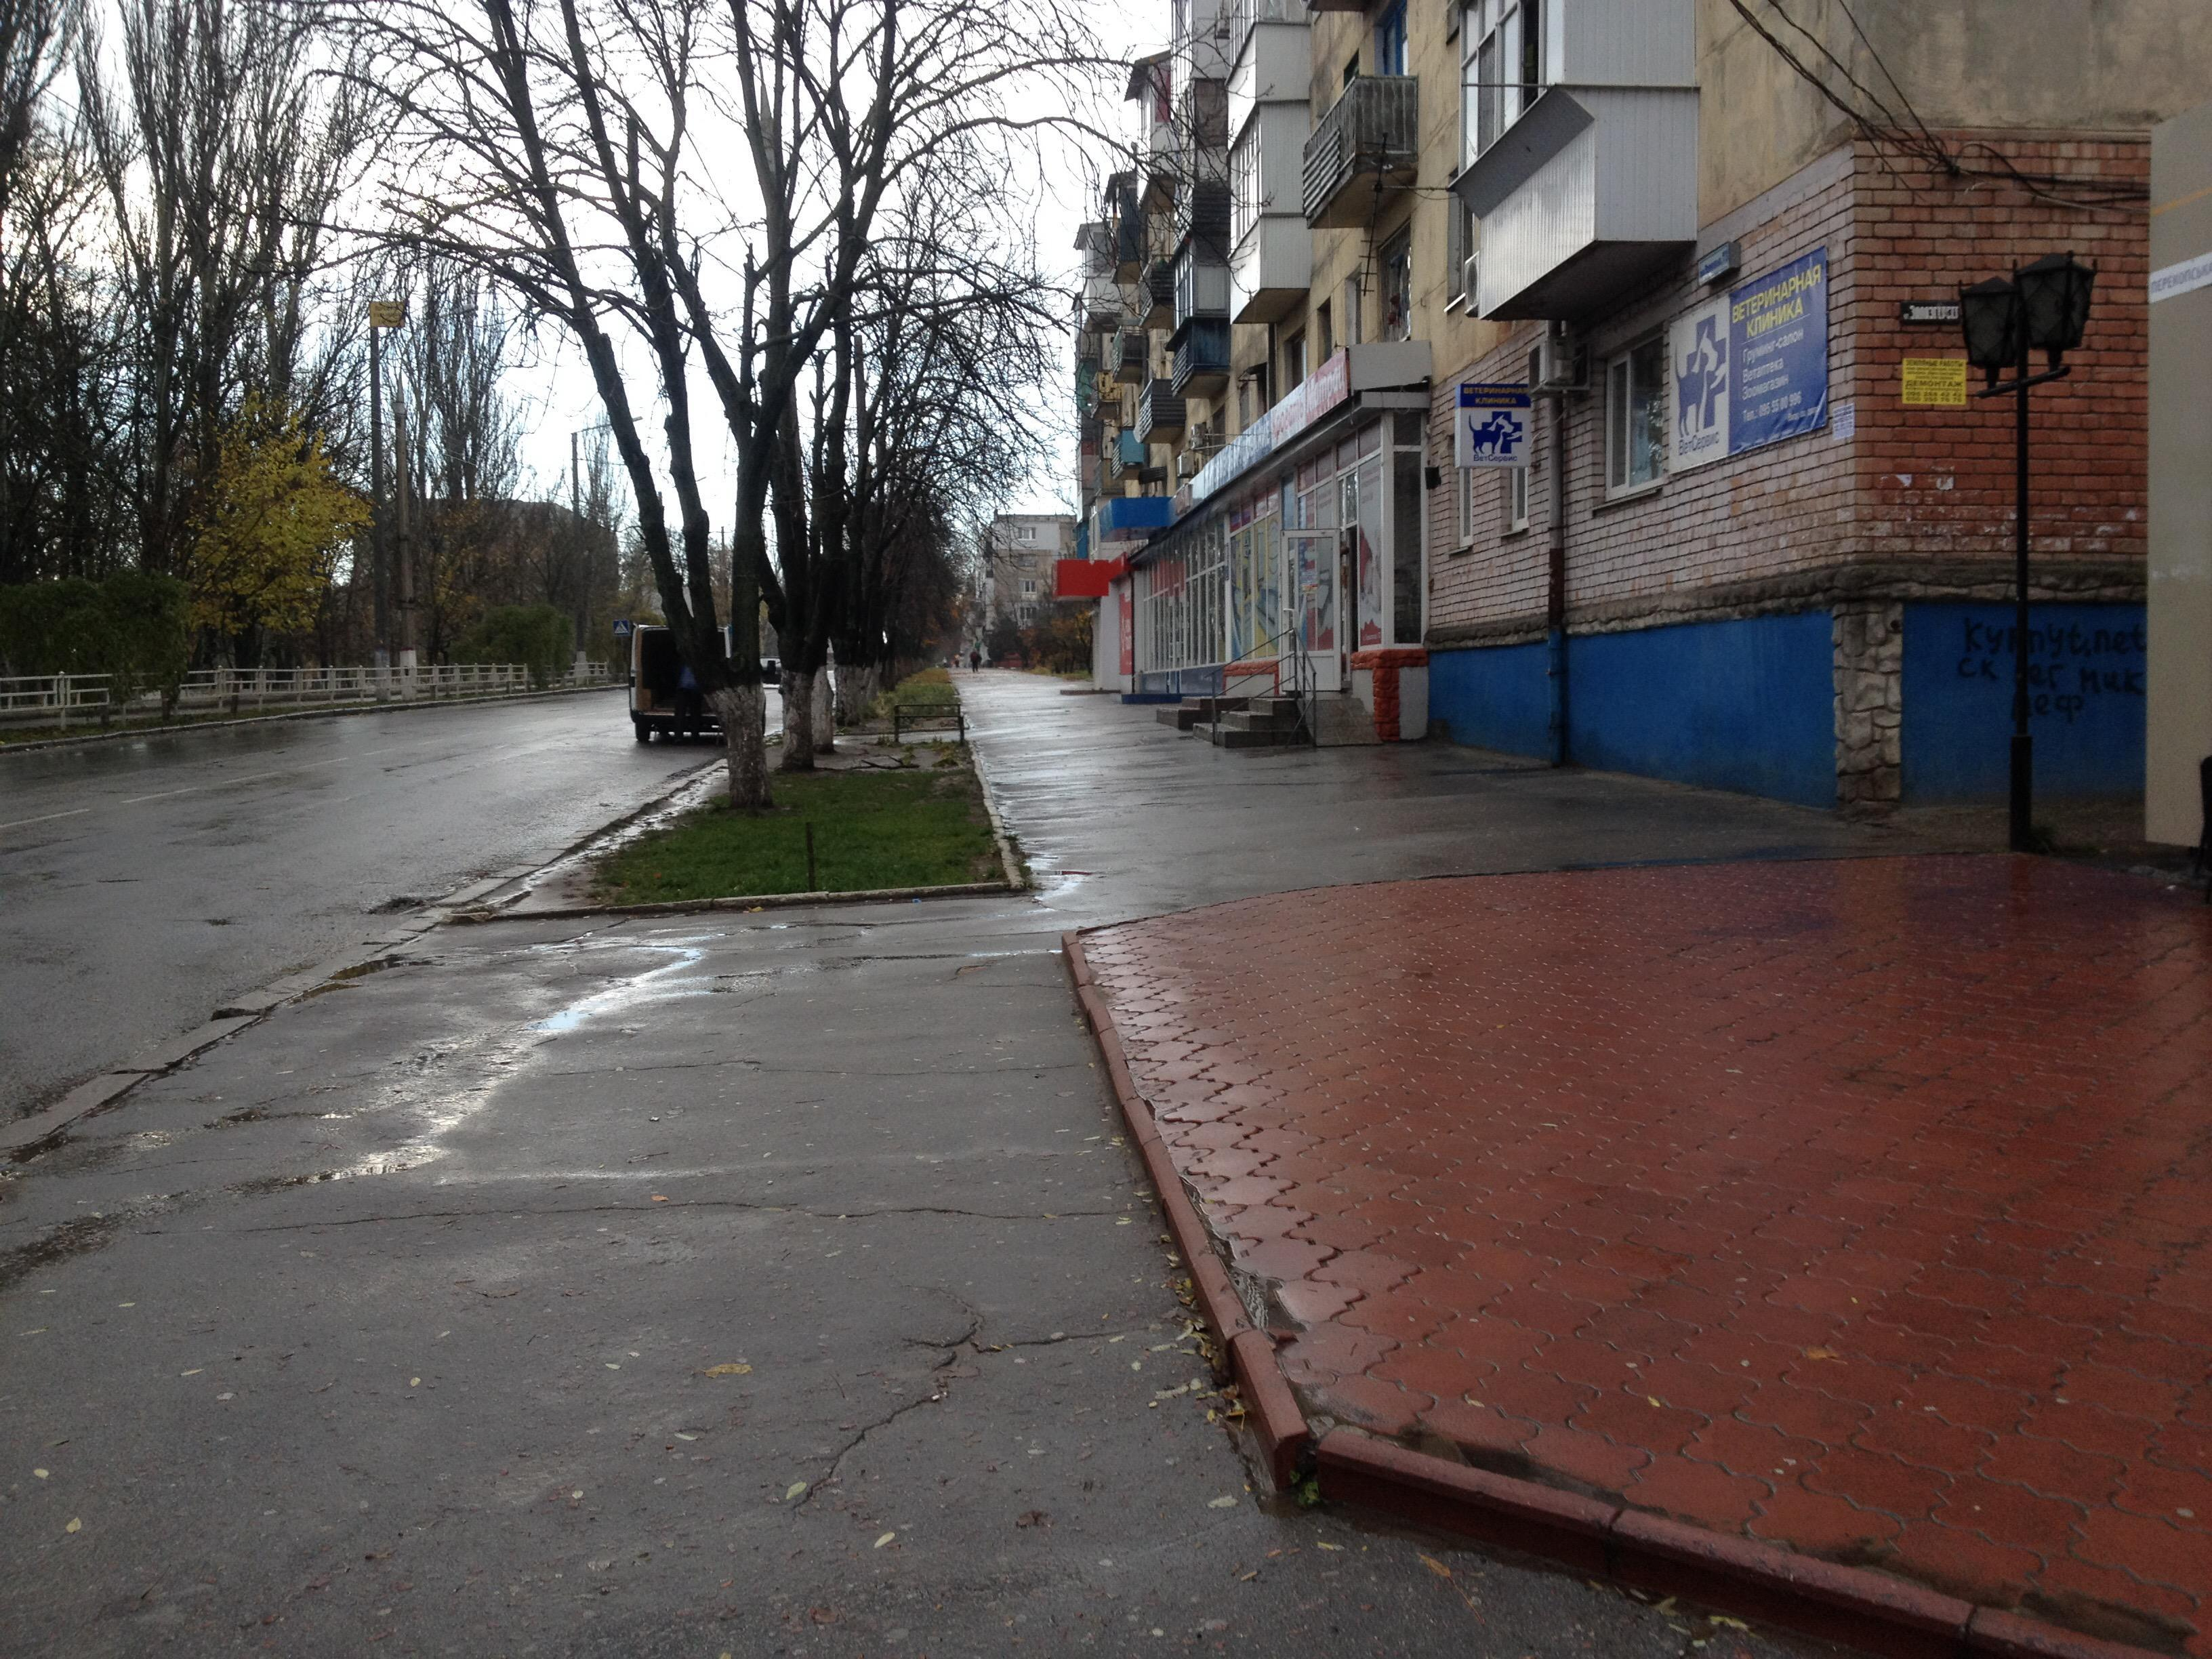vinyl banner: (1663, 251, 1848, 467)
